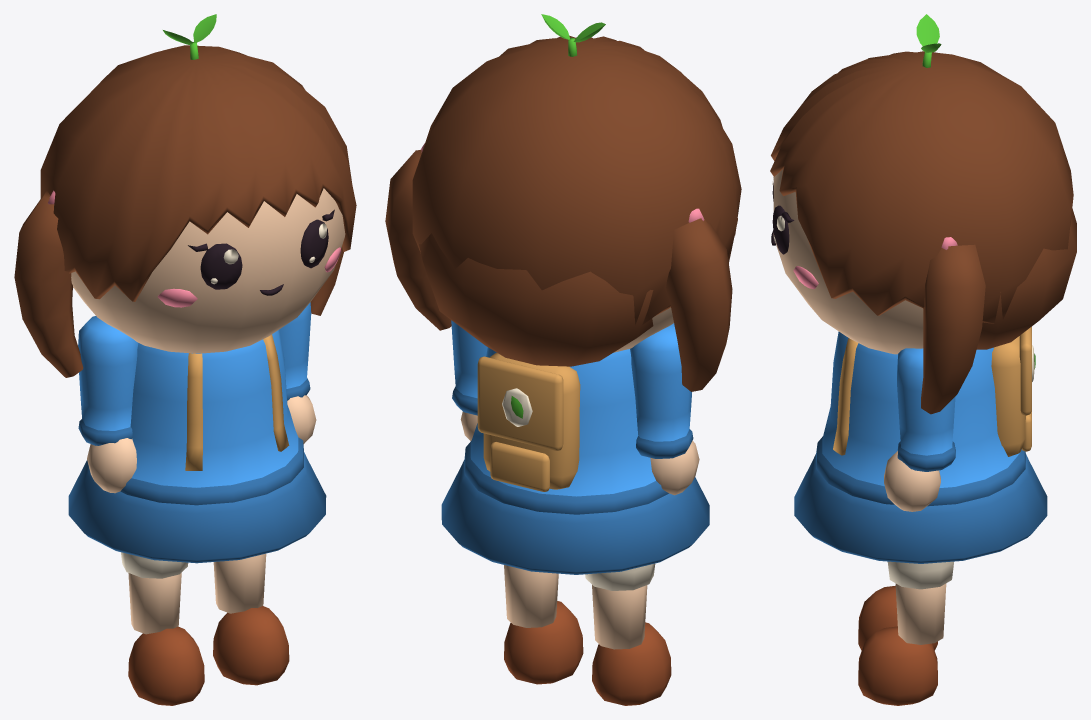
The model's file is hero-girl-teen.glb.
3 views of the same model, side by side, from view 1: azimuth 30°, elevation 25°; view 2: azimuth 150°, elevation 25°; view 3: azimuth 270°, elevation 25° (orthographic). The views are drawn at different scales.
Parts seen in each view (by area): view 1: head, body, leg-left, arm-left, leg-right, arm-right, head-leaf; view 2: head, body, leg-left, arm-left, leg-right, arm-right, head-leaf; view 3: head, body, leg-right, arm-right, leg-left, head-leaf.
Part boxes in pixels (x1,y1,x2,y2): head: [14, 45, 356, 377]; body: [68, 330, 326, 563]; leg-left: [121, 552, 204, 705]; arm-left: [78, 316, 138, 493]; leg-right: [213, 553, 289, 685]; arm-right: [279, 302, 316, 444]; head-leaf: [163, 14, 216, 59]; head: [385, 35, 741, 391]; body: [441, 347, 709, 574]; leg-left: [585, 563, 671, 705]; arm-left: [630, 323, 699, 495]; leg-right: [504, 565, 583, 684]; arm-right: [451, 320, 487, 440]; head-leaf: [541, 14, 605, 56]; head: [770, 51, 1076, 414]; body: [794, 326, 1047, 563]; leg-right: [858, 561, 953, 705]; arm-right: [884, 348, 955, 511]; leg-left: [858, 585, 937, 650]; head-leaf: [916, 14, 941, 67].
Size of the model in its own units: 1.32 by 2.51 by 1.08.
